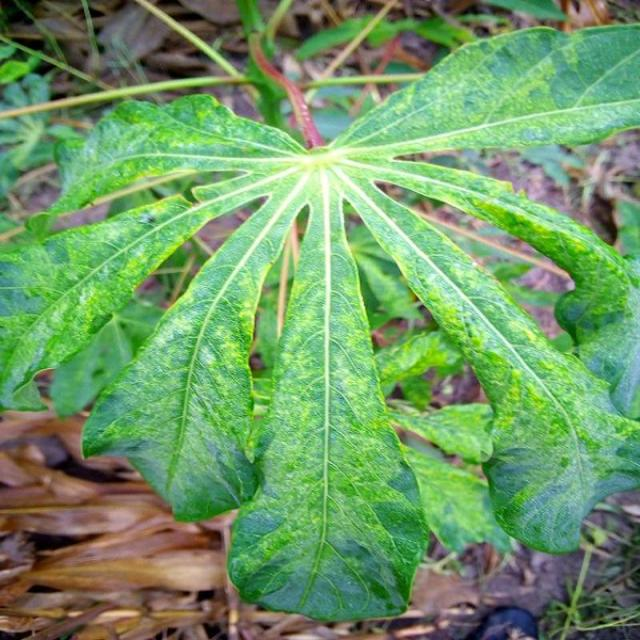Mosaico: (35, 98, 625, 523)
